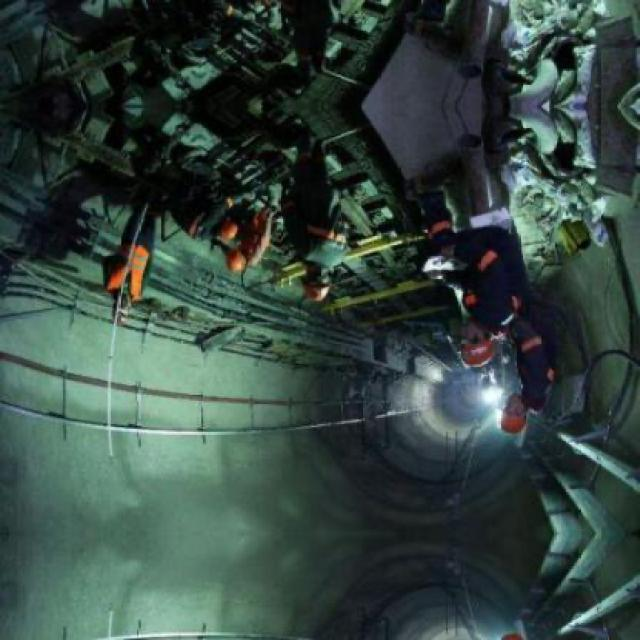con casco: (81, 258, 212, 325), (418, 285, 509, 362), (482, 363, 582, 433), (278, 259, 350, 314), (210, 223, 280, 277), (208, 189, 222, 244)
